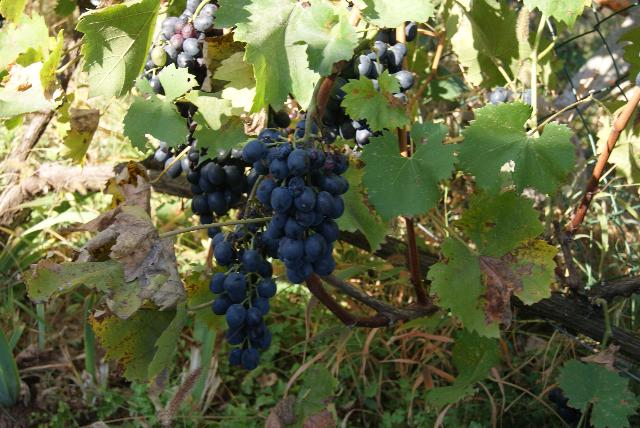grapes: (242, 136, 349, 284), (209, 241, 276, 370), (139, 0, 218, 95)
